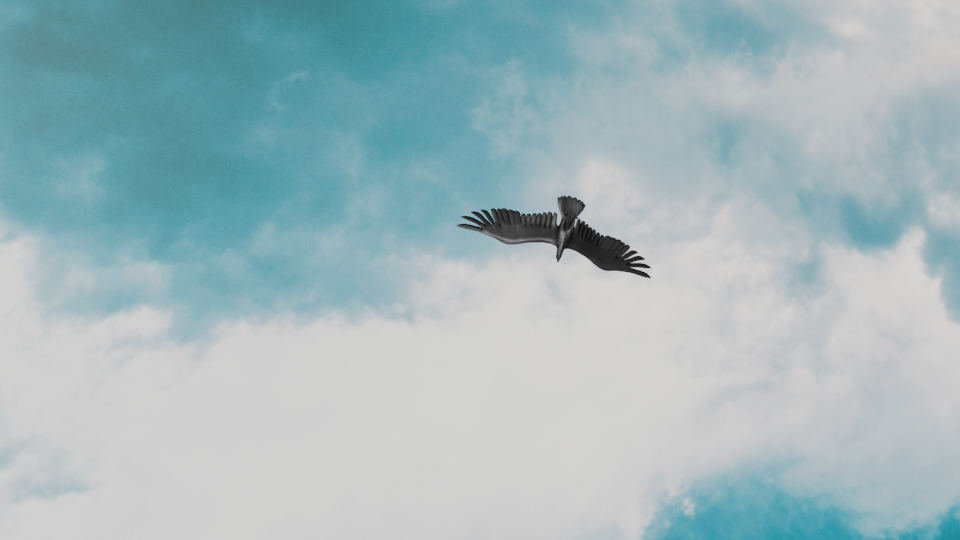bird: (454, 193, 651, 279)
